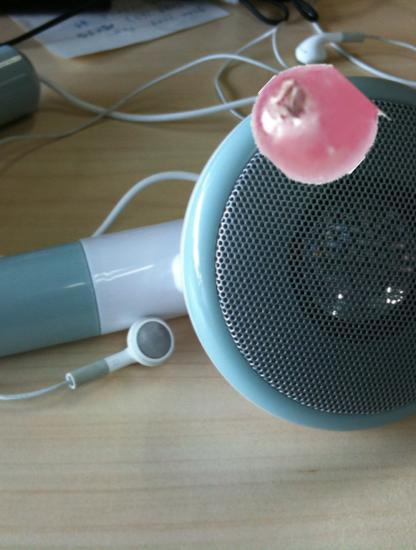Redcurrant: (251, 62, 375, 186)
